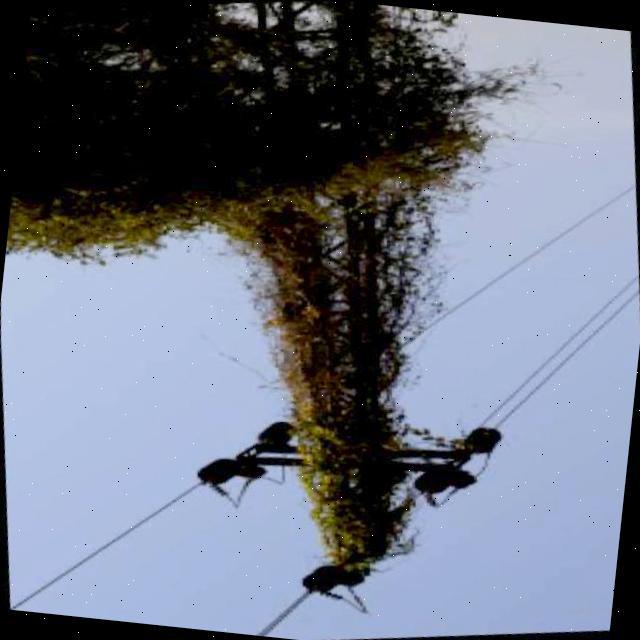critical vegetation: (144, 0, 551, 631)
